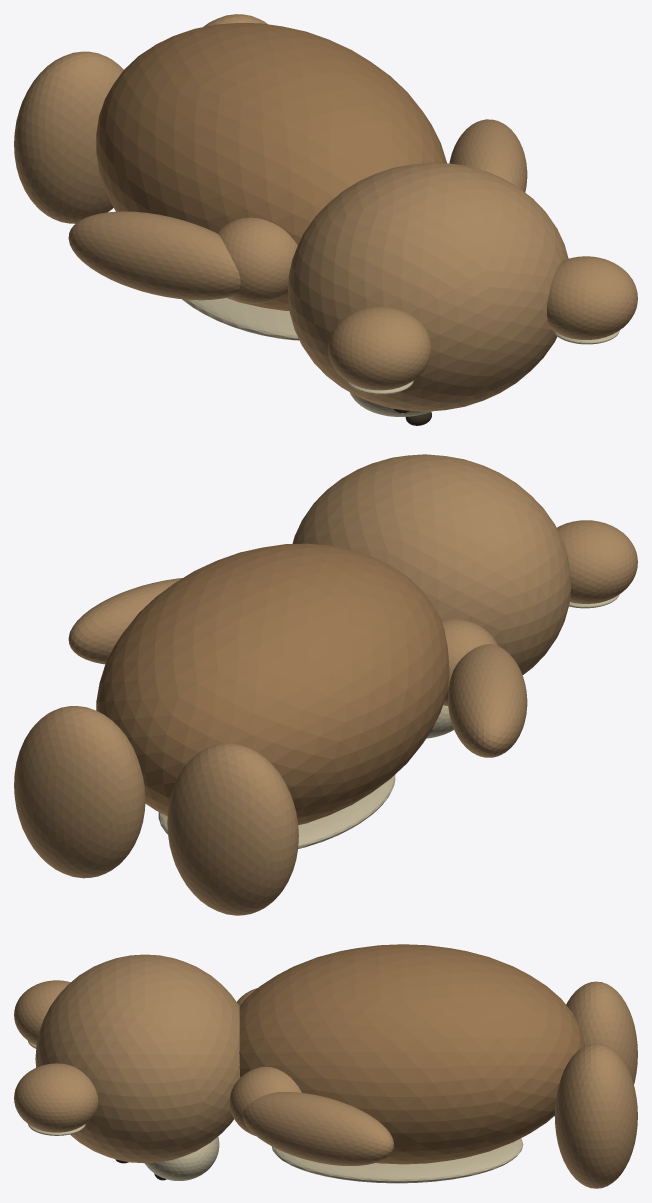
File: bear_original_connected.glb
3 renders of one model, top to bottom at view 1: azimuth 30°, elevation 25°; view 2: azimuth 150°, elevation 25°; view 3: azimuth 270°, elevation 25°, orthographic. The views are drawn at different scales.
Visible parts, largest first — view 1: torso, head, foot_left, arm_left, ear_left, ear_right, shoulder_left, arm_right, belly_patch; view 2: torso, head, foot_left, foot_right, arm_left, ear_left, arm_right, belly_patch, shoulder_left; view 3: torso, head, foot_right, arm_right, ear_right, belly_patch, foot_left, shoulder_right, ear_left, muzzle.
Part boxes in pixels (x1=…): torso: x1=96, y1=23, x2=446, y2=310; head: x1=288, y1=162, x2=568, y2=411; foot_left: x1=14, y1=51, x2=123, y2=223; arm_left: x1=68, y1=211, x2=240, y2=300; ear_left: x1=328, y1=306, x2=431, y2=390; ear_right: x1=547, y1=256, x2=637, y2=339; shoulder_left: x1=217, y1=217, x2=297, y2=303; arm_right: x1=449, y1=119, x2=527, y2=192; belly_patch: x1=182, y1=298, x2=299, y2=340; torso: x1=96, y1=543, x2=449, y2=824; head: x1=292, y1=454, x2=571, y2=674; foot_left: x1=167, y1=743, x2=298, y2=915; foot_right: x1=14, y1=706, x2=145, y2=878; arm_left: x1=448, y1=644, x2=527, y2=757; ear_left: x1=557, y1=520, x2=637, y2=603; arm_right: x1=68, y1=578, x2=182, y2=664; belly_patch: x1=158, y1=775, x2=395, y2=848; shoulder_left: x1=441, y1=618, x2=497, y2=705; torso: x1=239, y1=944, x2=584, y2=1164; head: x1=35, y1=954, x2=240, y2=1163; foot_right: x1=554, y1=1043, x2=637, y2=1188; arm_right: x1=242, y1=1092, x2=393, y2=1165; ear_right: x1=14, y1=1063, x2=98, y2=1132; belly_patch: x1=271, y1=1138, x2=523, y2=1183; foot_left: x1=566, y1=981, x2=637, y2=1084; shoulder_right: x1=229, y1=1066, x2=301, y2=1135; ear_left: x1=14, y1=980, x2=70, y2=1045; muzzle: x1=145, y1=1136, x2=219, y2=1180.
Size of the model in its own units: 0.3298 by 0.192 by 0.495.
